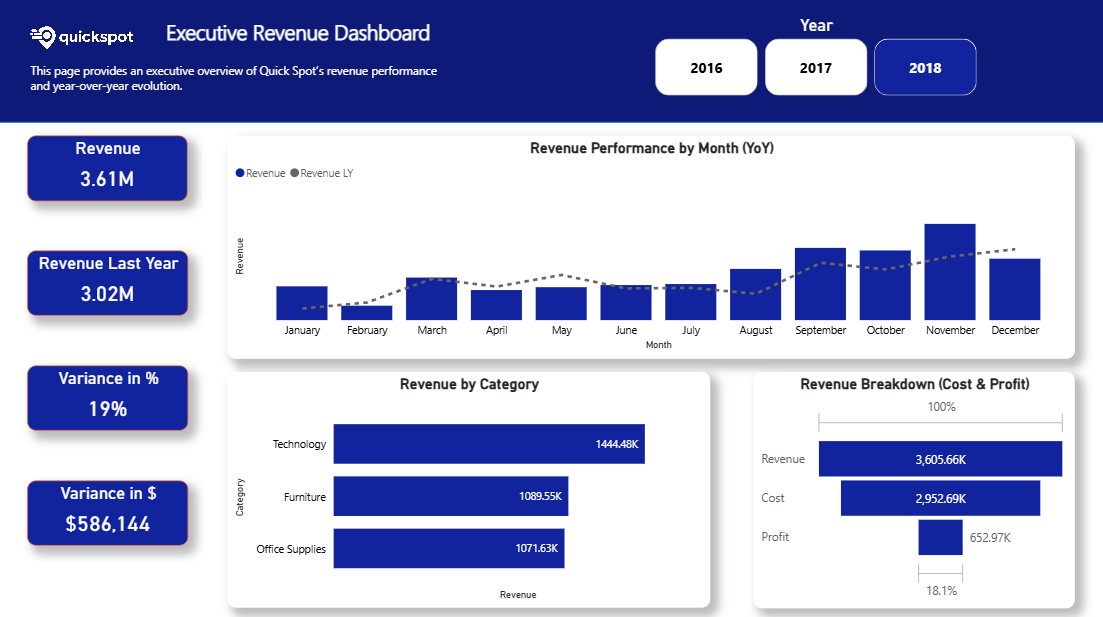

The page's visual inventory and layout, read from the dashboard file:
{"tool":"powerbi","page":{"name":"Executive Revenue Dashboard","canvas":[1280,720],"ordinal":0},"visuals":[{"type":"card","title":"Revenue","fields":{"Values":["Measures_.Income"]},"box":[36.1,163,183.2,75],"z":0},{"type":"shape","box":[0,0,1280,148],"z":1000},{"type":"card","title":"Variance in $","fields":{"Values":["Measures_.YoY Revenue $"]},"box":[36.1,557.3,184.1,74.6],"z":2000},{"type":"card","title":"Variance in %","fields":{"Values":["Measures_.YoY Revenue"]},"box":[36.1,426,184.1,74.6],"z":3000},{"type":"advancedSlicerVisual","fields":{"Values":["Calendar DAX.Year"]},"box":[748.9,26.1,378.2,97],"z":4000},{"type":"lineStackedColumnComboChart","title":"Revenue Performance by Month (YoY)","fields":{"Y":["Measures_.Revenue"],"Y2":["Measures_.Revenue LY"],"Category":["Calendar DAX.Date.Variation.Date Hierarchy.Month"]},"box":[263.7,163,969,255],"z":5000},{"type":"funnel","title":"Revenue Breakdown (Cost & Profit)","fields":{"Y":["Measures_.Revenue","Measures_.Cost","Measures_.Profit"]},"box":[865.7,432.9,367.1,270],"z":6000},{"type":"clusteredBarChart","fields":{"Category":["Product.Category"],"Y":["Measures_.Revenue"]},"box":[263.7,432.9,552.3,269.9],"z":7000},{"type":"textbox","box":[182.9,22.4,577.2,83.3],"z":8000},{"type":"textbox","box":[34.8,74.6,483.9,48.5],"z":9000},{"type":"image","box":[34.8,0,129.4,104.5],"z":10000},{"type":"card","title":"Revenue Last Year","fields":{"Values":["Measures_.Revenue LY"]},"box":[36.1,294.7,184.1,74.6],"z":11000}]}

Visuals, with their boxes in screenshot pixels (x1, y1, x2, y2), scaled from the page's 1280x720 canvas onto the 1103x617 screenshot:
"Revenue" card: 31:140:189:204
shape: 0:0:1102:127
"Variance in $" card: 31:478:190:542
"Variance in %" card: 31:365:190:429
advancedSlicerVisual - Calendar DAX.Year: 645:22:971:105
"Revenue Performance by Month (YoY)" lineStackedColumnComboChart: 227:140:1062:358
"Revenue Breakdown (Cost & Profit)" funnel: 746:371:1062:602
clusteredBarChart - Product.Category x Measures_.Revenue: 227:371:703:602
textbox: 158:19:655:91
textbox: 30:64:447:105
image: 30:0:141:90
"Revenue Last Year" card: 31:253:190:316
